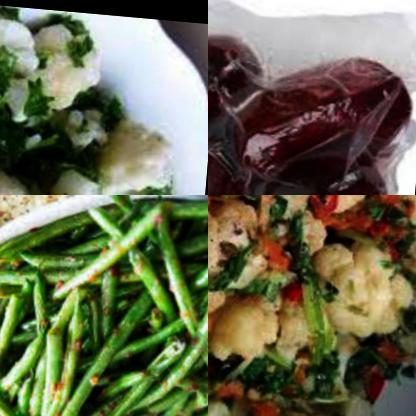beet: (208, 17, 416, 195)
cayliflower: (0, 0, 203, 195), (208, 280, 341, 386), (301, 213, 416, 333), (208, 195, 276, 302), (229, 380, 365, 416), (284, 195, 415, 225)
fasol: (0, 195, 208, 416)
